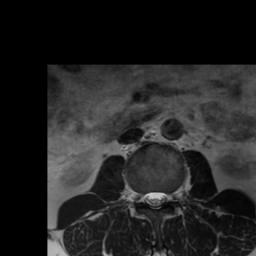CCS_normal: (152, 185, 159, 216)
LFS_normal: (167, 184, 175, 207)
LLS_normal: (159, 185, 167, 210)
RFS_normal: (138, 184, 145, 210)
RLS_normal: (145, 184, 152, 210)
